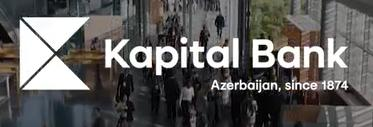Kapital Bank: (17, 14, 94, 92)
